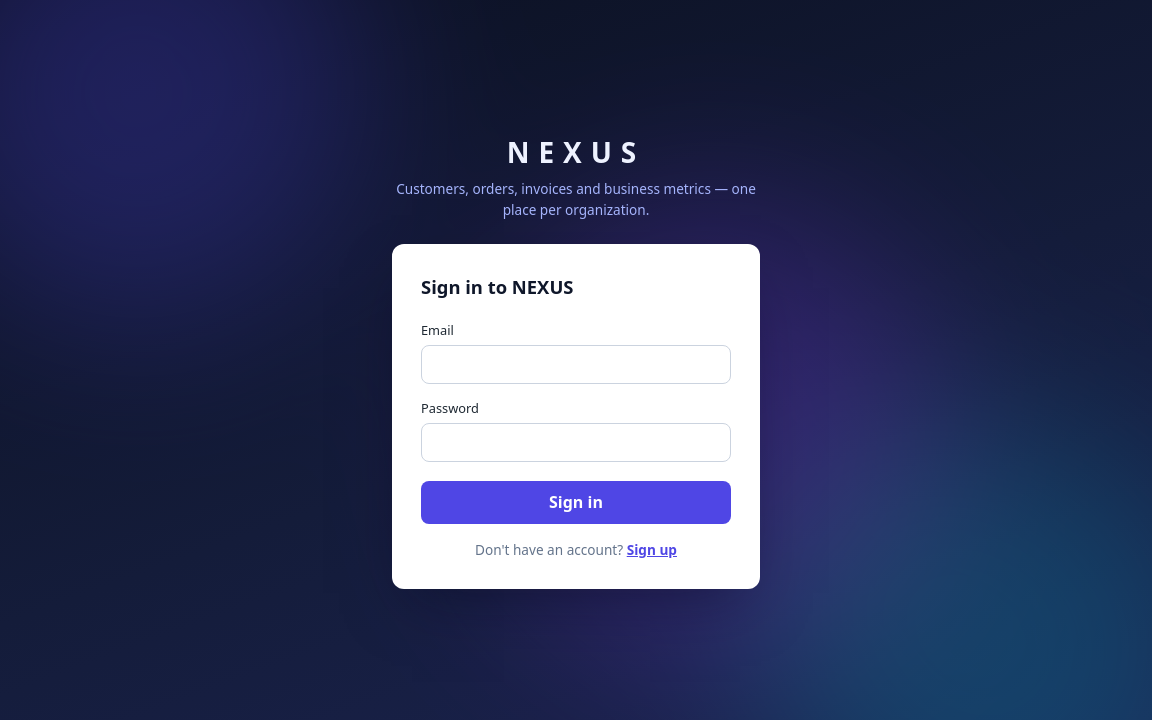
Test case: after signing in, the user is prompted to create their first organization
The image size is (1152, 720).
In the field labelled "Email": x=576, y=365 x1=421 y1=345 x2=731 y2=384, type "user@example.com"
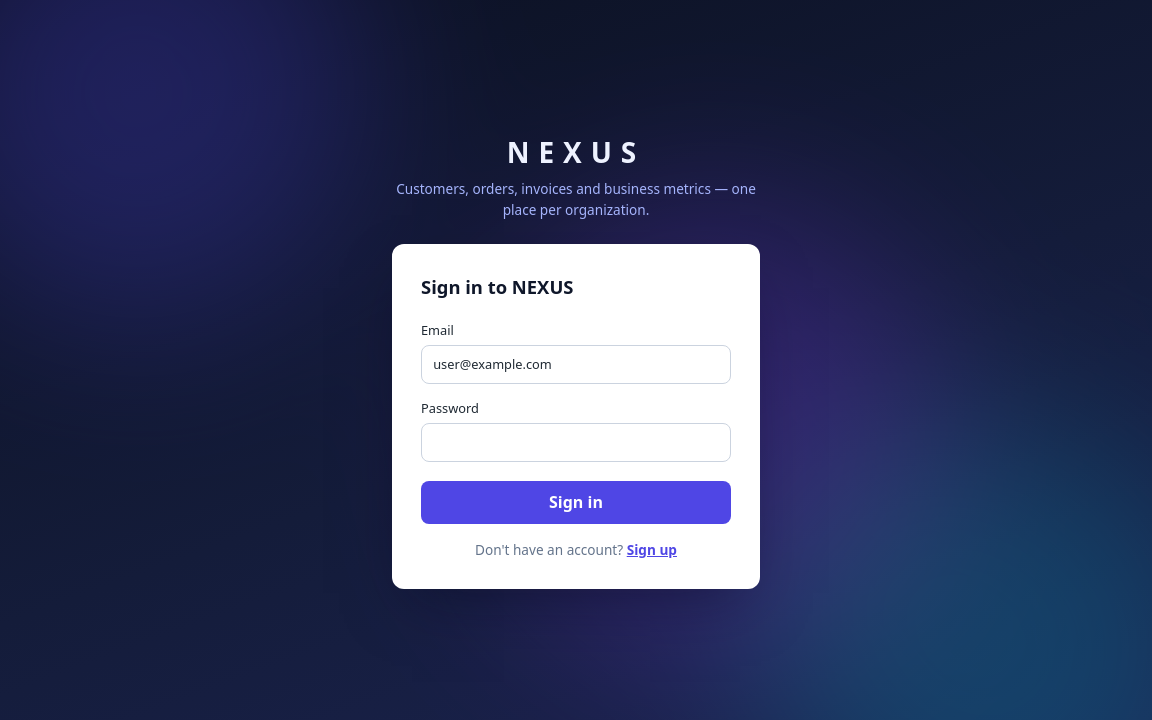
In the password field labelled "Password": x=576, y=443 x1=421 y1=423 x2=731 y2=462, type "secret"
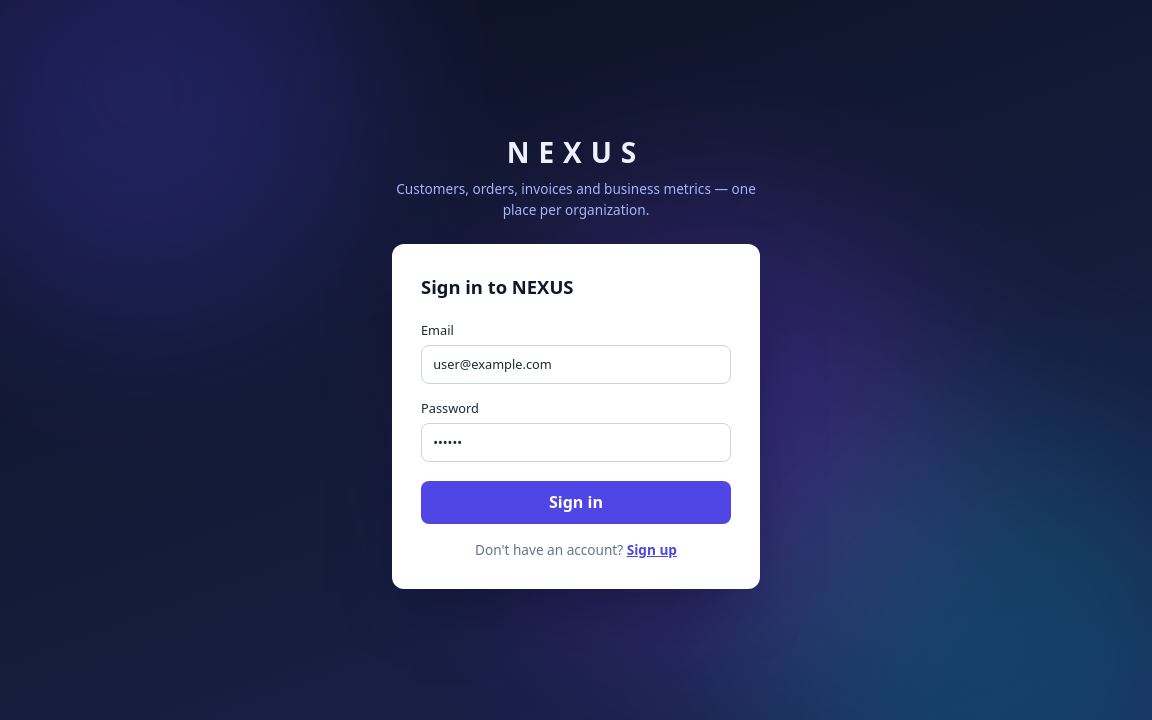
Click the button "Sign in": x=576, y=502 x1=421 y1=480 x2=731 y2=524
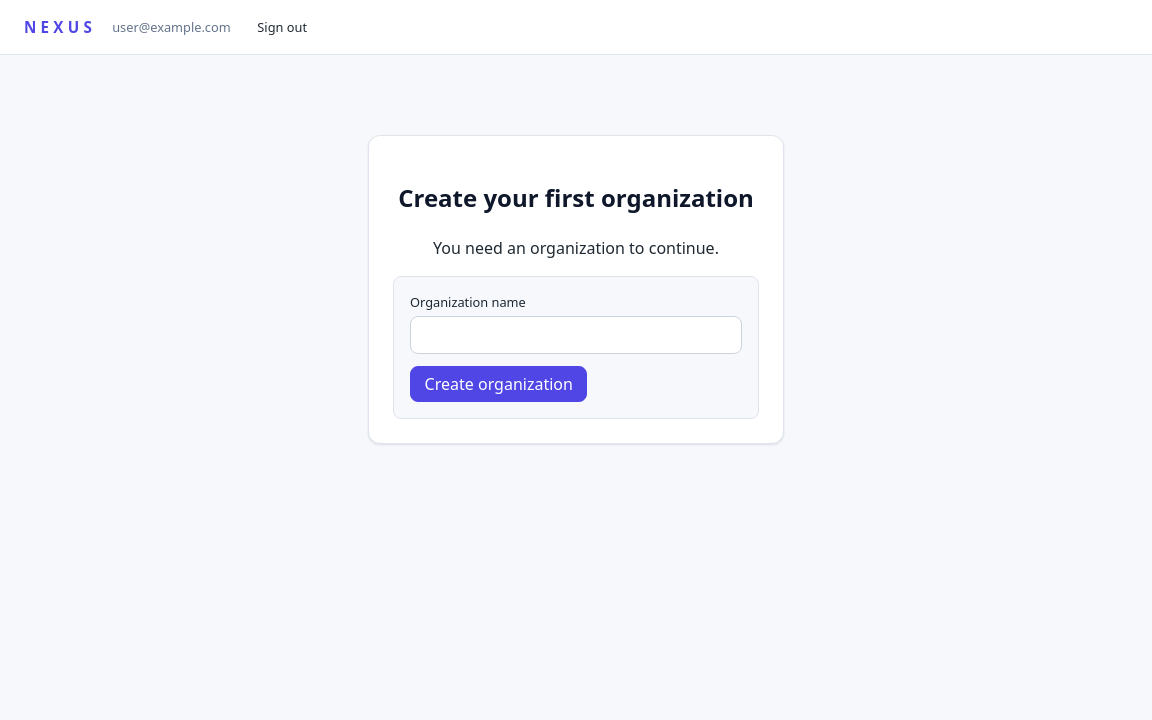
Now the heading "Create your first organization" is shown, box x1=393 y1=180 x2=759 y2=216
Now the text "user@example.com" is shown, box x1=112 y1=18 x2=231 y2=37
Now the button "Sign out" is shown, box x1=247 y1=12 x2=318 y2=42
